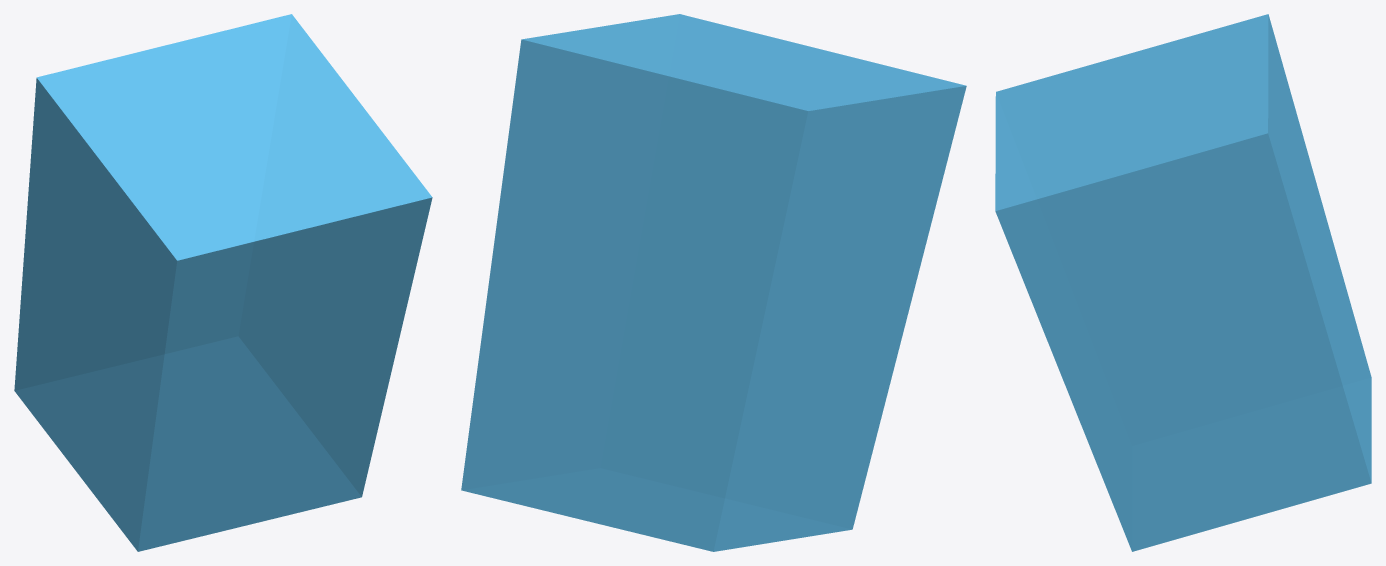
File: Event_421115418_HBrechit_3.fbx
The picture shows the model from 3 angles, left to right: view 1: azimuth 30°, elevation 25°; view 2: azimuth 150°, elevation 25°; view 3: azimuth 270°, elevation 25°; orthographic projection. The views are drawn at different scales.
Parts seen in each view (by area): view 1: Model; view 2: Model; view 3: Model.
Part boxes in pixels (x1=…): Model: x1=14, y1=14, x2=432, y2=551; Model: x1=461, y1=14, x2=966, y2=551; Model: x1=995, y1=14, x2=1371, y2=551.
Size of the model in its own units: 0.4566 by 0.7389 by 0.602.
